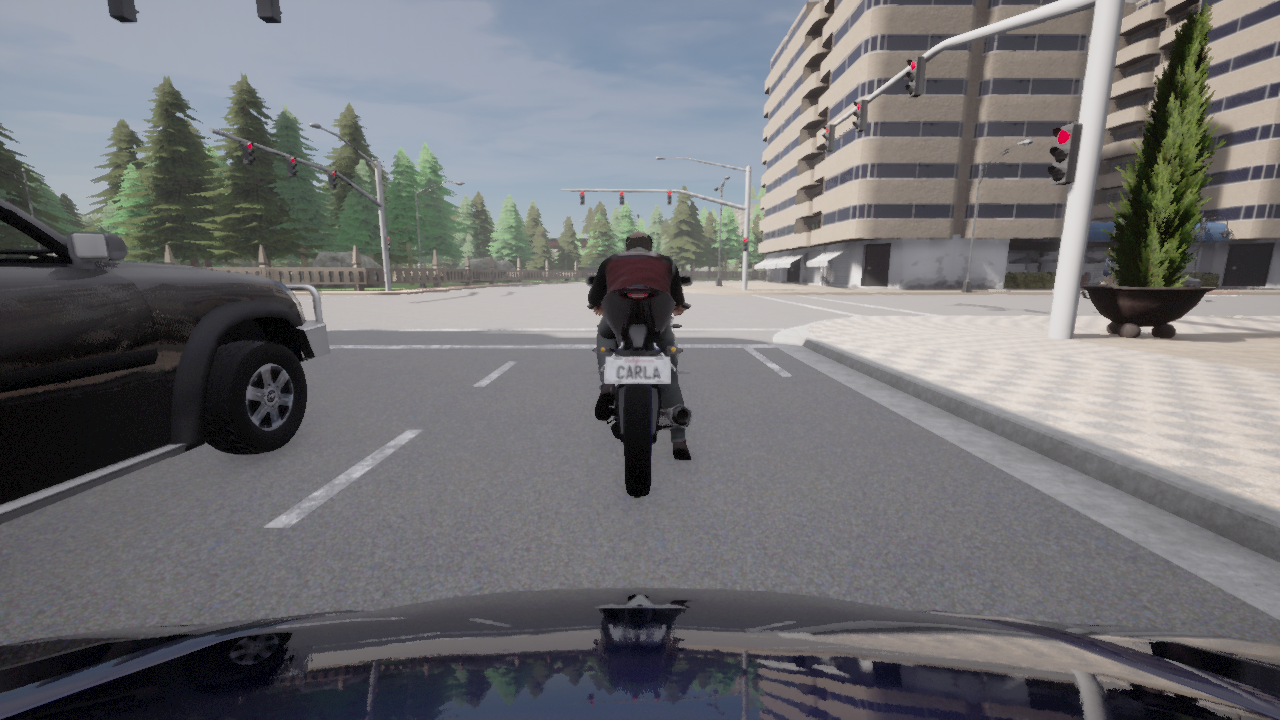cyclist: (0, 588, 1279, 719), (586, 274, 692, 496), (1080, 272, 1203, 299)
pedestrian: (1094, 244, 1119, 313)
